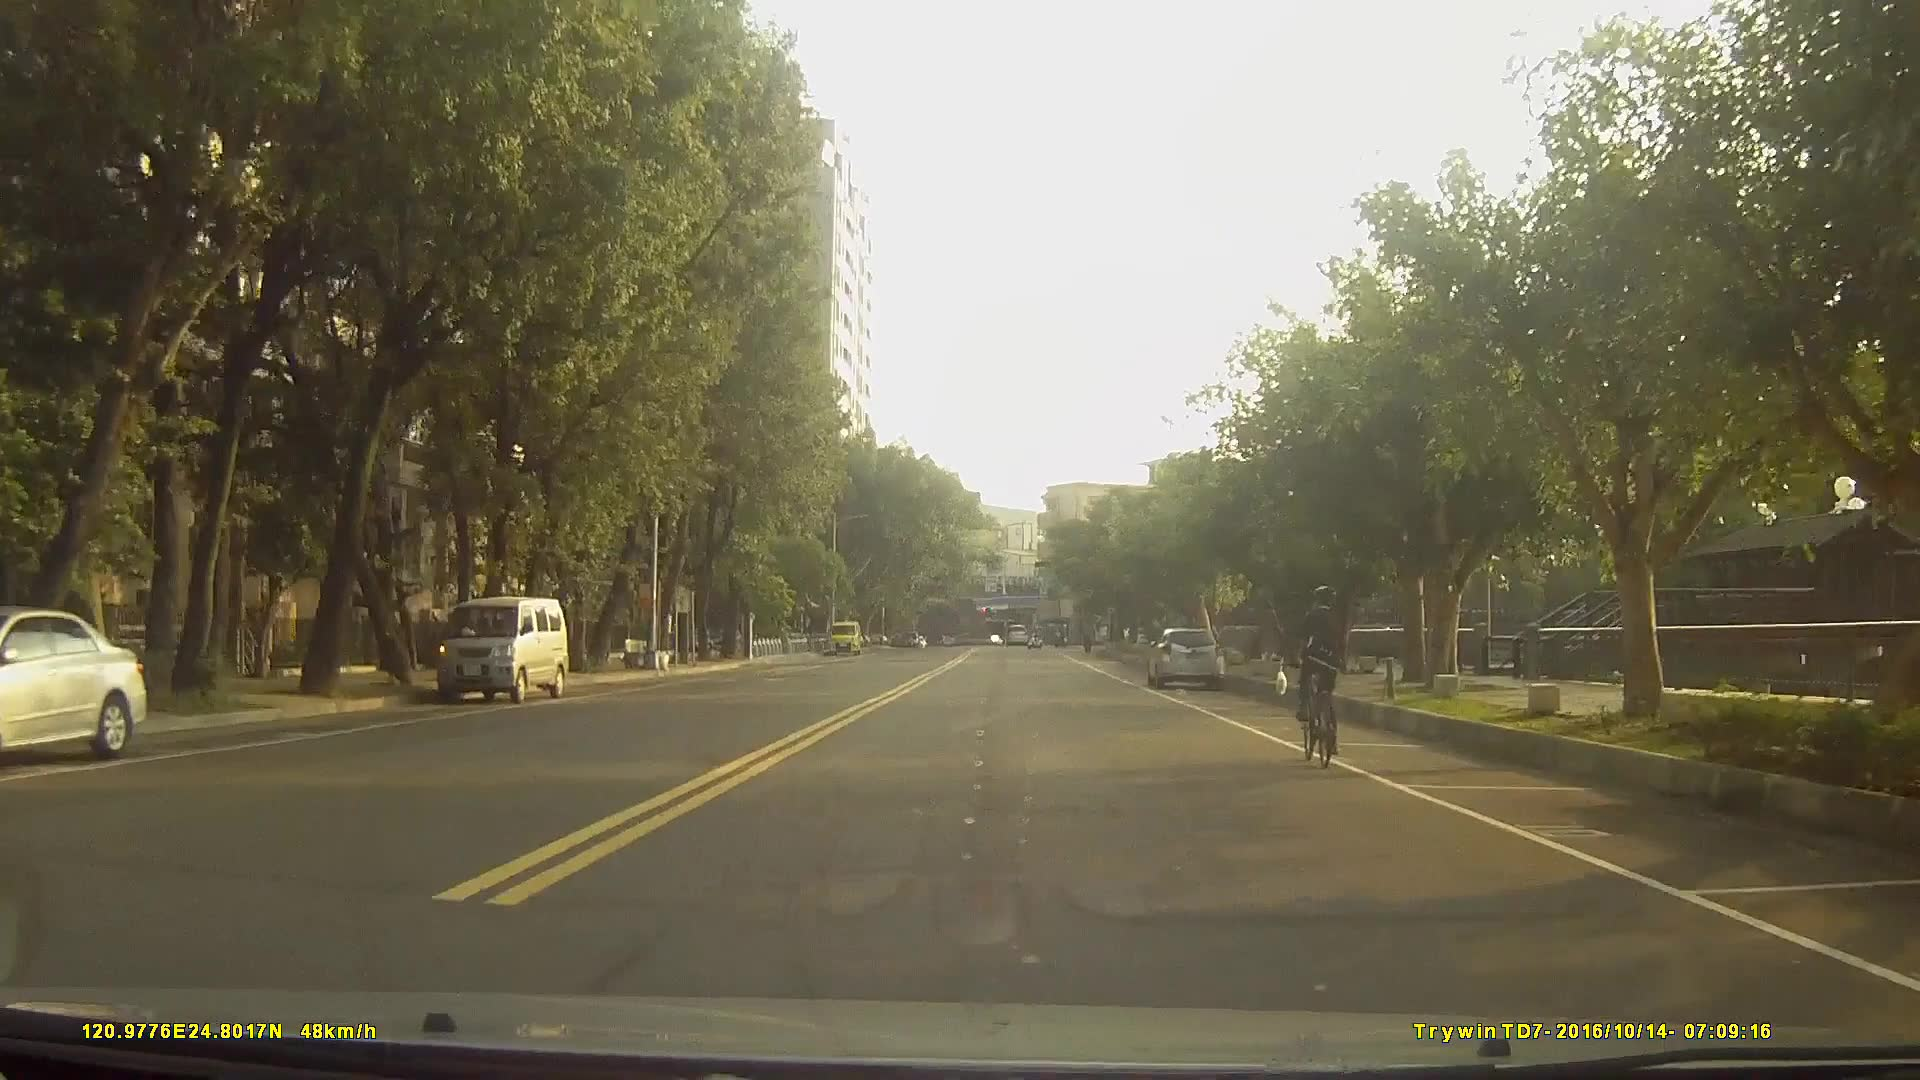rider: (1295, 588, 1344, 768)
vehicle: (0, 604, 147, 760), (436, 594, 570, 704), (1147, 625, 1227, 691), (1004, 621, 1028, 648)
